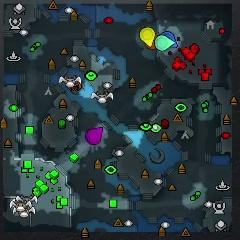p1: (161, 31, 177, 48)
p2: (155, 35, 175, 51)
p3: (86, 127, 103, 144)
p4: (140, 27, 155, 47)
p5: (145, 41, 156, 50)
